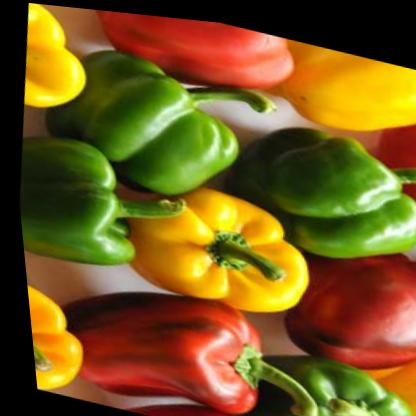bell_pepper: (43, 31, 288, 219), (40, 260, 326, 416), (213, 99, 416, 272), (107, 165, 319, 325), (234, 329, 416, 416)
